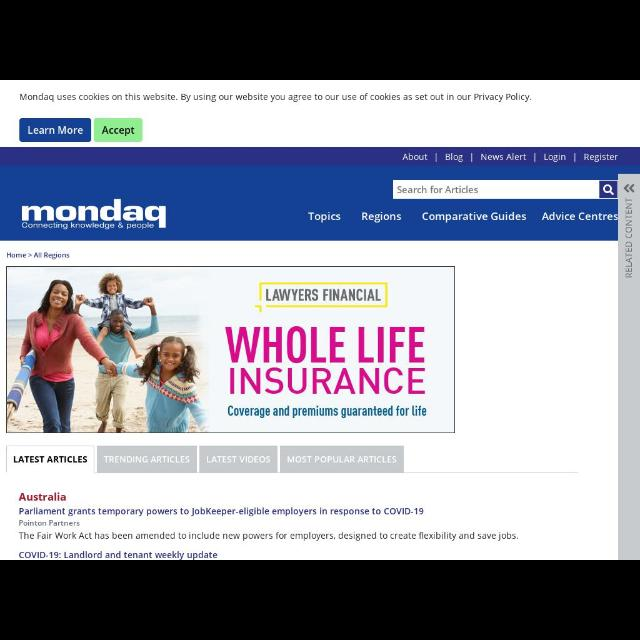button: (600, 182, 618, 198)
icon: (604, 184, 614, 196), (624, 184, 634, 192)
image: (7, 266, 456, 434), (22, 198, 166, 230)
input: (393, 180, 619, 198)
multitab: (6, 446, 404, 472), (401, 146, 639, 164)
panel: (1, 80, 640, 146)
text: (20, 94, 532, 102), (19, 508, 424, 518), (19, 532, 519, 540), (20, 552, 218, 558), (422, 212, 526, 222), (104, 456, 190, 464), (625, 196, 633, 278), (288, 456, 397, 462), (398, 186, 478, 194), (542, 212, 618, 220), (6, 252, 70, 260), (18, 492, 66, 502), (28, 126, 84, 134), (13, 456, 87, 462), (362, 212, 402, 222), (308, 211, 340, 223), (206, 456, 270, 462), (481, 153, 527, 161), (20, 520, 80, 526), (102, 125, 134, 136), (584, 154, 618, 162), (544, 153, 566, 163), (402, 153, 428, 161), (445, 153, 463, 163)
textbutton: (20, 118, 92, 142), (94, 118, 142, 142)
toolbar: (1, 166, 620, 240)
